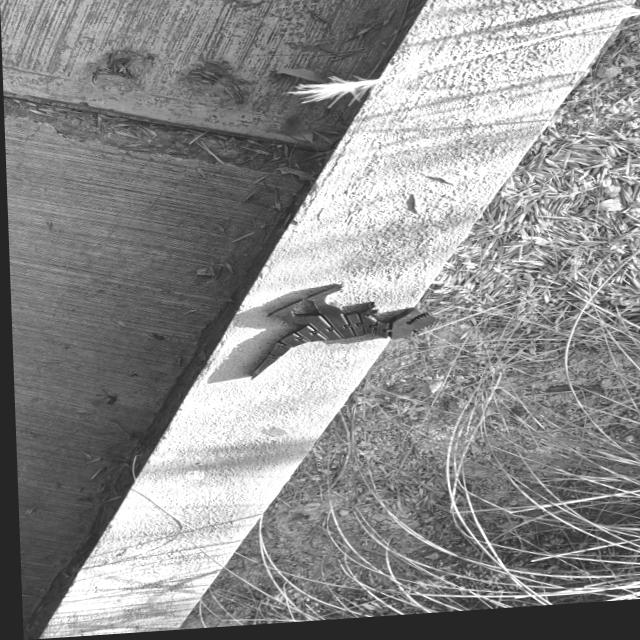dino: (246, 277, 440, 381)
